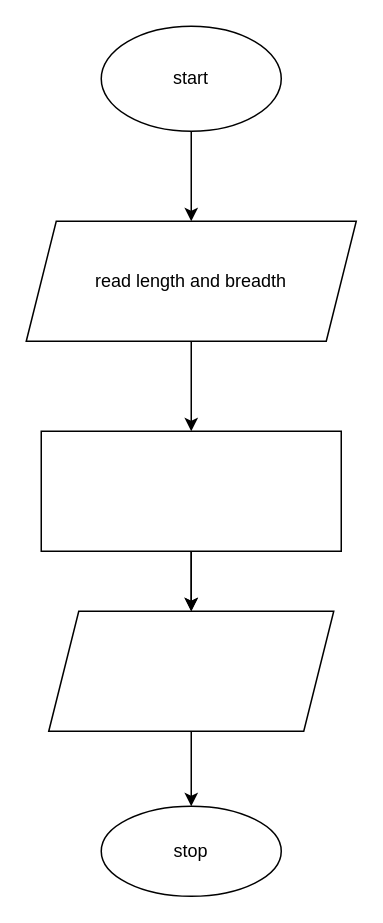
The diagram is 383 pixels wide and 923 high, and some of its shapes have lost their labels. The shapes that lost their labels are listed below. From the top down, each one's centre as x and y in pixels, then its label:
At point 190,490: "Area = length * breadth".
At point 190,670: "print Area".
